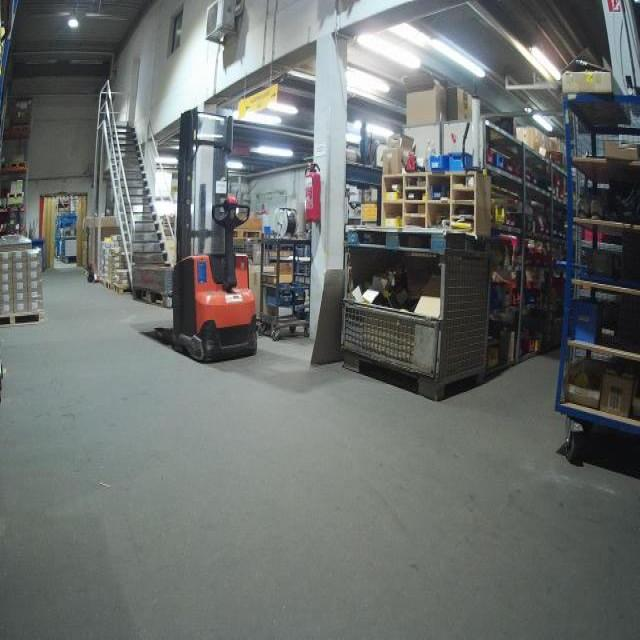pallet: (1, 305, 48, 331), (131, 287, 174, 307), (113, 283, 133, 296), (8, 158, 29, 170), (6, 189, 25, 201), (106, 280, 117, 289)
pallet_truck: (140, 104, 257, 365)
stillage: (337, 241, 494, 403)
